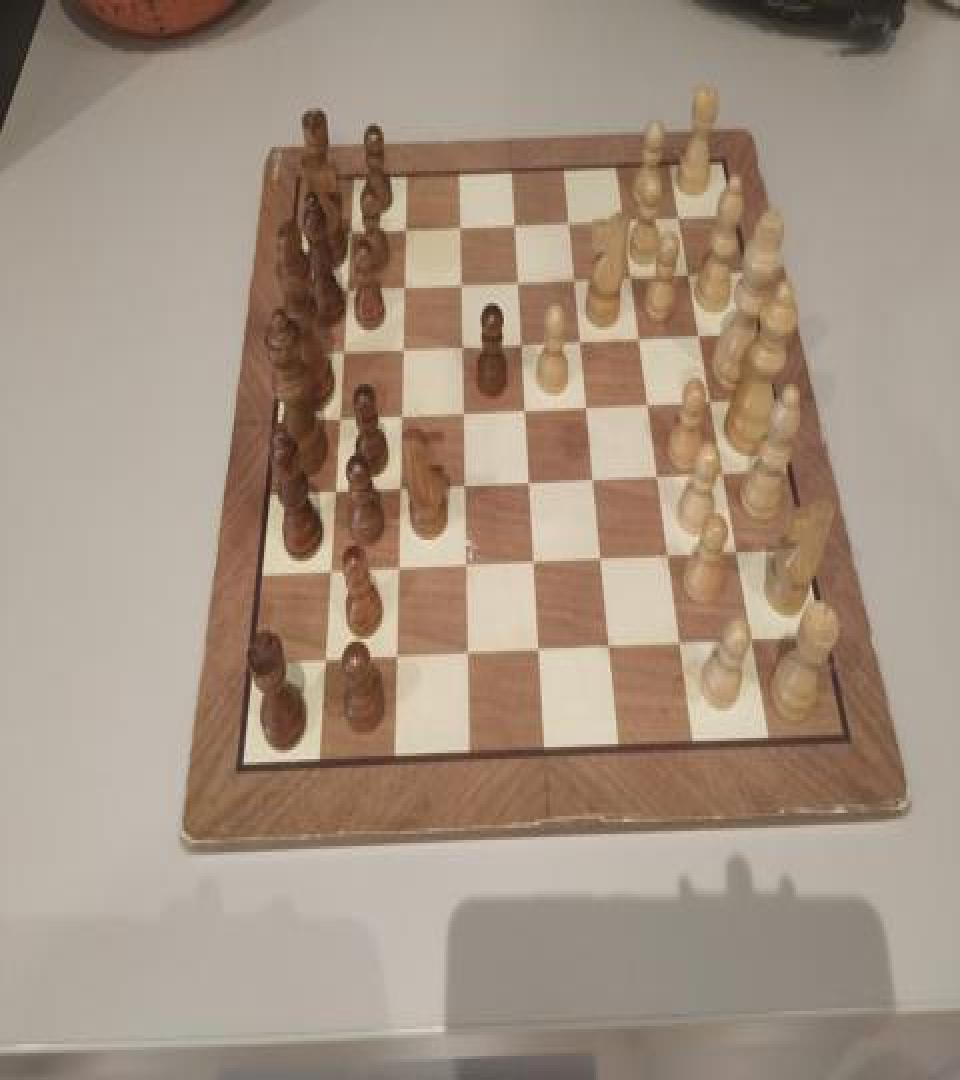xcorner: (323, 478, 341, 506), (651, 460, 669, 488), (390, 400, 408, 428), (516, 394, 534, 422), (332, 334, 350, 362), (452, 328, 470, 356), (572, 322, 590, 350), (693, 316, 711, 344), (339, 214, 357, 242), (450, 208, 468, 236), (561, 202, 579, 230), (385, 645, 403, 672), (457, 642, 475, 669), (601, 633, 619, 660), (673, 630, 691, 657), (387, 557, 405, 584), (456, 552, 474, 579), (524, 549, 542, 576), (593, 545, 611, 572), (730, 538, 748, 565), (389, 474, 407, 501), (454, 471, 472, 498), (520, 468, 538, 495), (586, 465, 604, 492), (328, 404, 346, 431), (453, 397, 471, 424), (579, 390, 597, 417), (641, 387, 659, 414), (704, 384, 722, 411), (392, 331, 410, 358), (335, 273, 353, 300), (393, 270, 411, 297), (451, 267, 469, 294), (509, 264, 527, 291), (567, 261, 585, 288), (624, 258, 642, 285), (682, 255, 700, 282), (395, 212, 413, 239), (617, 201, 635, 228), (672, 198, 690, 225), (313, 650, 331, 676), (529, 638, 547, 664), (745, 626, 763, 652), (318, 560, 336, 586), (662, 542, 680, 568), (717, 458, 735, 484), (512, 326, 530, 352), (633, 320, 651, 346), (506, 206, 524, 232)
